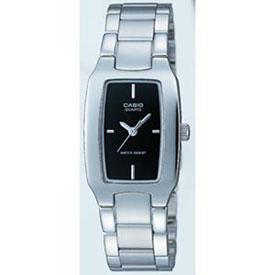watch: (79, 36, 191, 226)
